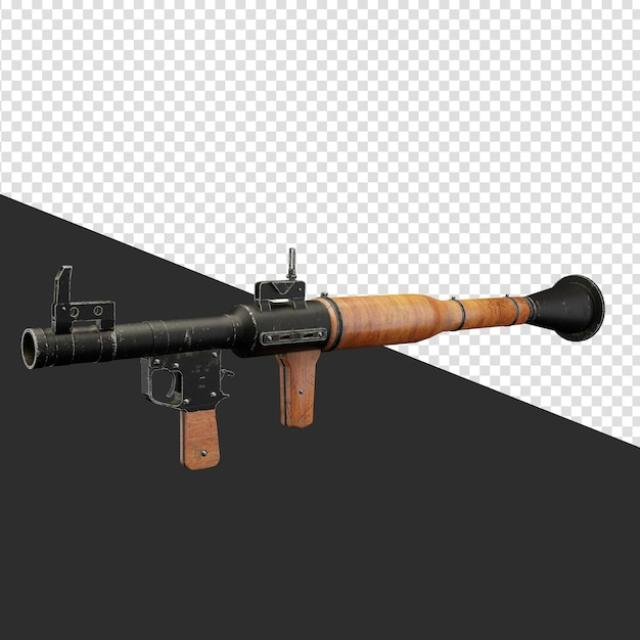Gun: (11, 206, 612, 503)
